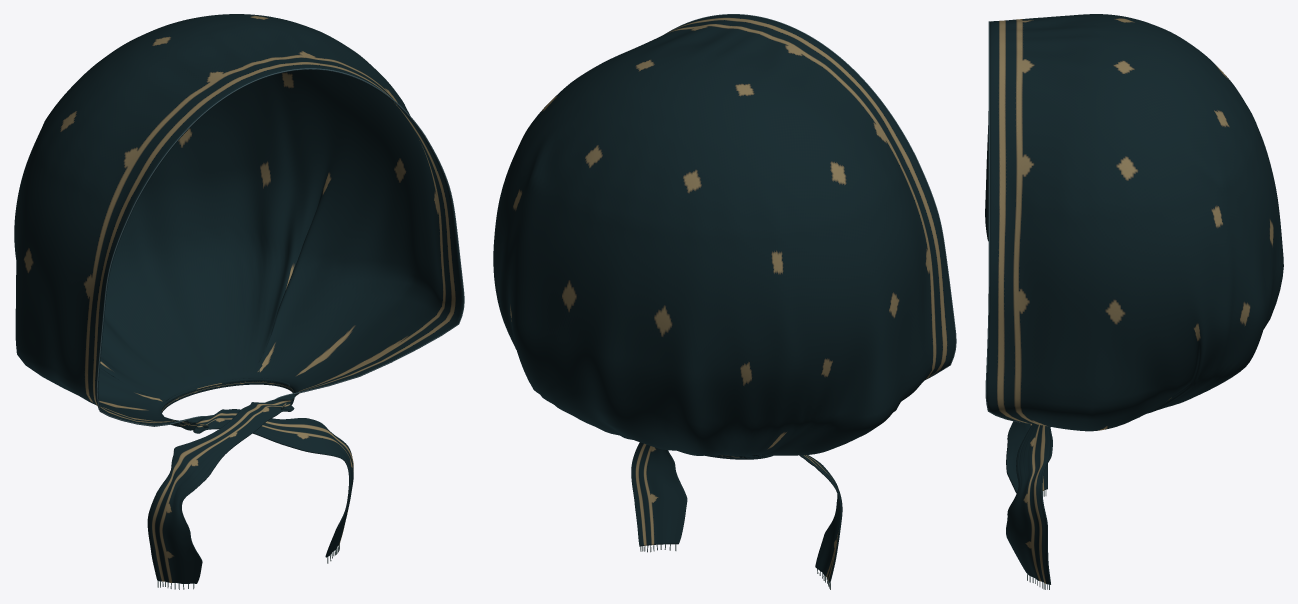
The model's file is Feminine-tank-pashmina246-headgear.glb.
3 views of the same model, side by side, from view 1: azimuth 30°, elevation 25°; view 2: azimuth 150°, elevation 25°; view 3: azimuth 270°, elevation 25° (orthographic). The views are drawn at different scales.
Parts seen in each view (by area): view 1: 226 headgear / Headwear / continuous woven pashmina239, 226 headgear / Headwear / face edge239; view 2: 226 headgear / Headwear / continuous woven pashmina239, 226 headgear / Headwear / face edge239; view 3: 226 headgear / Headwear / continuous woven pashmina239, 226 headgear / Headwear / face edge239.
Part boxes in pixels (x1,y1,x2,y2): 226 headgear / Headwear / continuous woven pashmina239: (14,14,463,583); 226 headgear / Headwear / face edge239: (96,68,464,426); 226 headgear / Headwear / continuous woven pashmina239: (493,14,955,583); 226 headgear / Headwear / face edge239: (664,14,956,379); 226 headgear / Headwear / continuous woven pashmina239: (985,14,1283,584); 226 headgear / Headwear / face edge239: (985,21,1028,423).
Size of the model in its own units: 1.02 by 1.35 by 0.7116.
3 materials, 1 textured.
